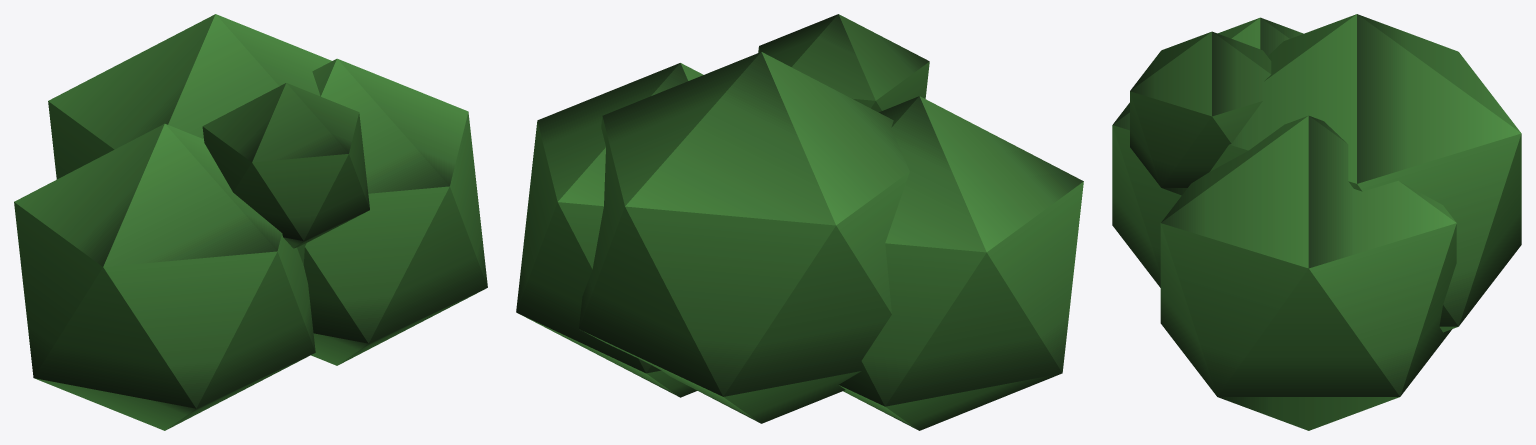
Rendered from bush.glb.
3 views of the same model, side by side, from view 1: azimuth 30°, elevation 25°; view 2: azimuth 150°, elevation 25°; view 3: azimuth 270°, elevation 25° (orthographic). The views are drawn at different scales.
Parts seen in each view (by area): view 1: bush; view 2: bush; view 3: bush.
Part boxes in pixels (<box>): bush: <box>14,14,487,430</box>; bush: <box>516,14,1083,430</box>; bush: <box>1112,14,1521,430</box>.
Bounding box in the file's own units: 0.562 × 0.42 × 0.4232.
1 material, 1 textured.
